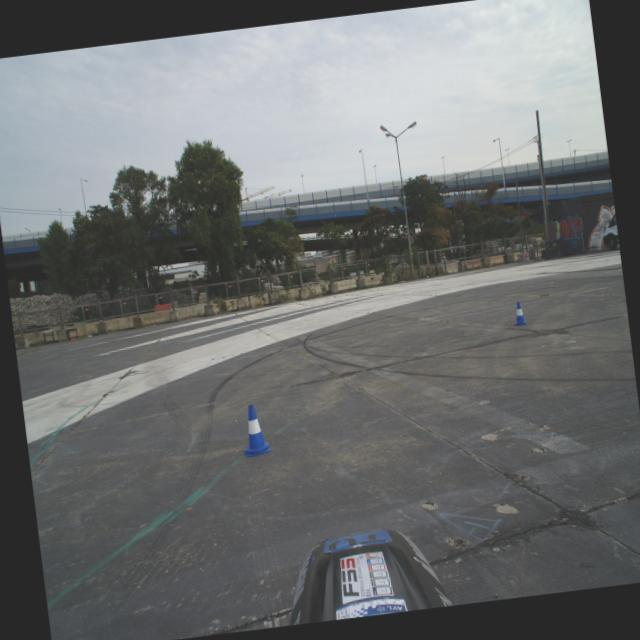blue_cone: (238, 402, 272, 458), (509, 300, 528, 326)
